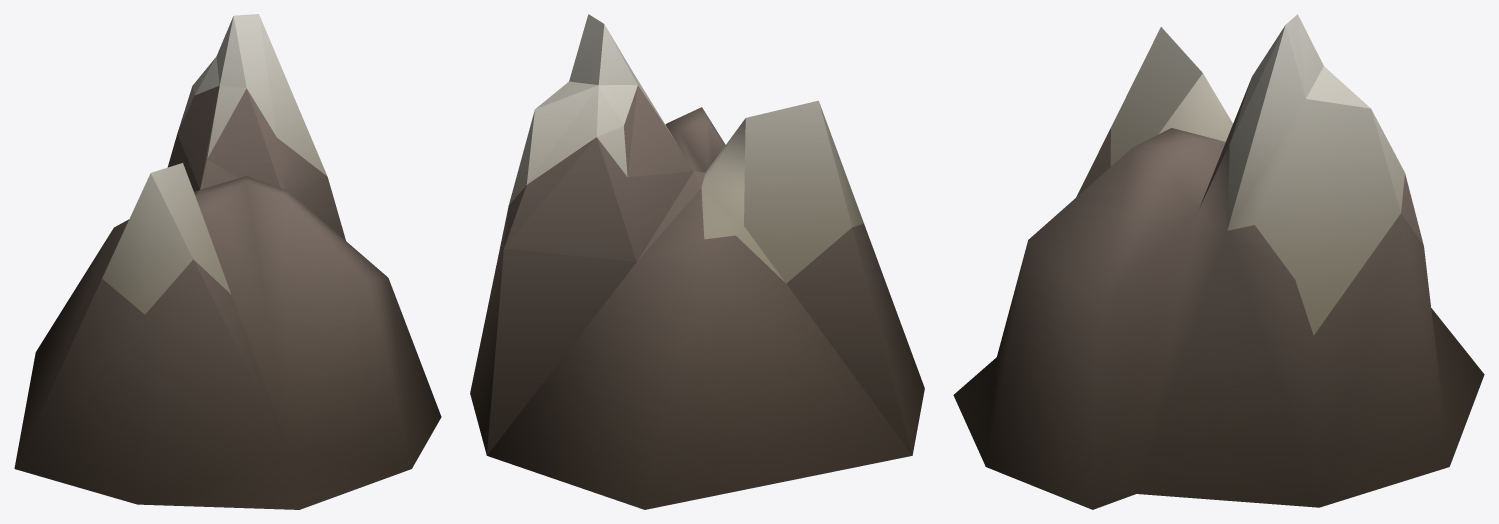
Rendered from mountain05_mdl.FBX.
3 views of the same model, side by side, from view 1: azimuth 30°, elevation 25°; view 2: azimuth 150°, elevation 25°; view 3: azimuth 270°, elevation 25° (orthographic). The views are drawn at different scales.
Parts seen in each view (by area): view 1: mountain5; view 2: mountain5; view 3: mountain5.
Part boxes in pixels (<box>): mountain5: <box>14,14,441,509</box>; mountain5: <box>470,14,924,509</box>; mountain5: <box>953,14,1484,509</box>.
Bounding box in the file's own units: 48.96 × 45.95 × 51.66.
1 material, 1 textured.
